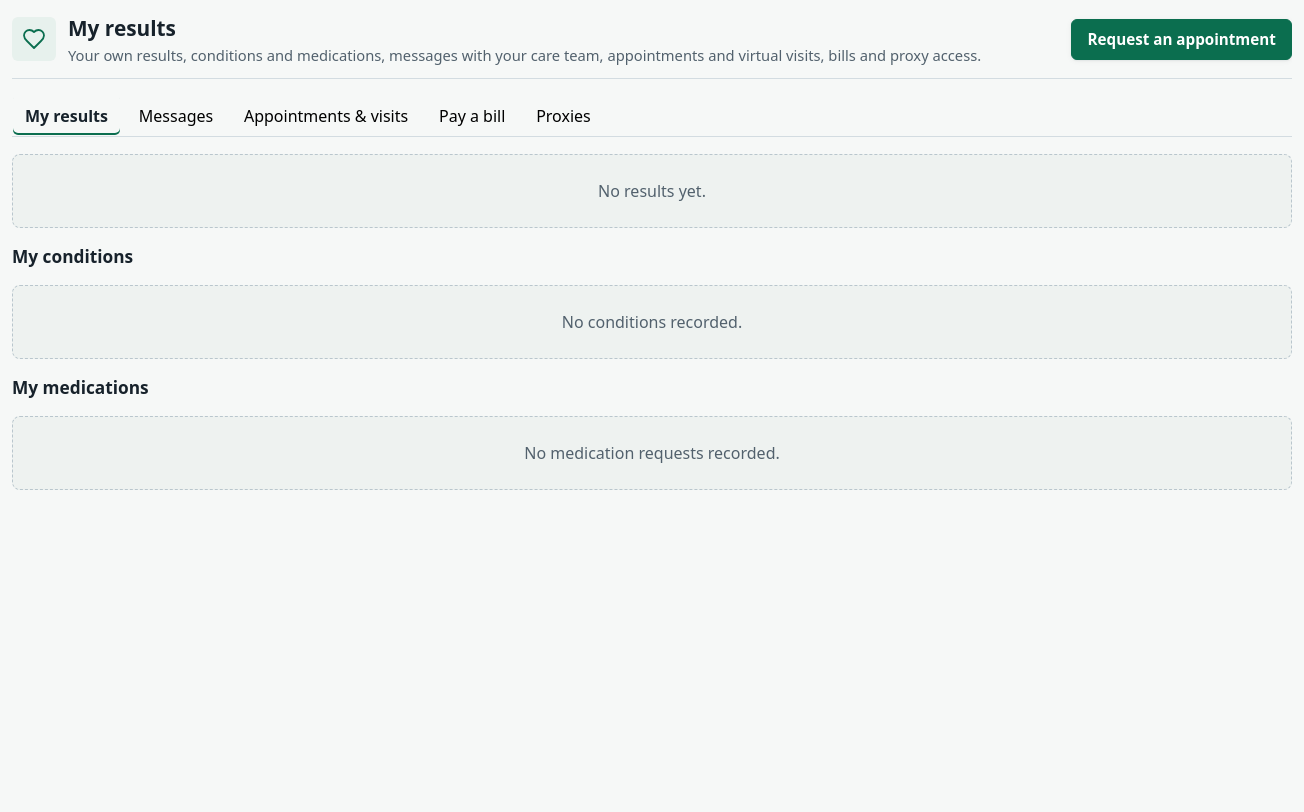
Scenario: PortalPage access services (BD-22 / BD-23) › proxy: creates a grant for a named proxy with chosen scopes
Click the tab "Proxies" at (563, 116), box x1=523 y1=95 x2=604 y2=136
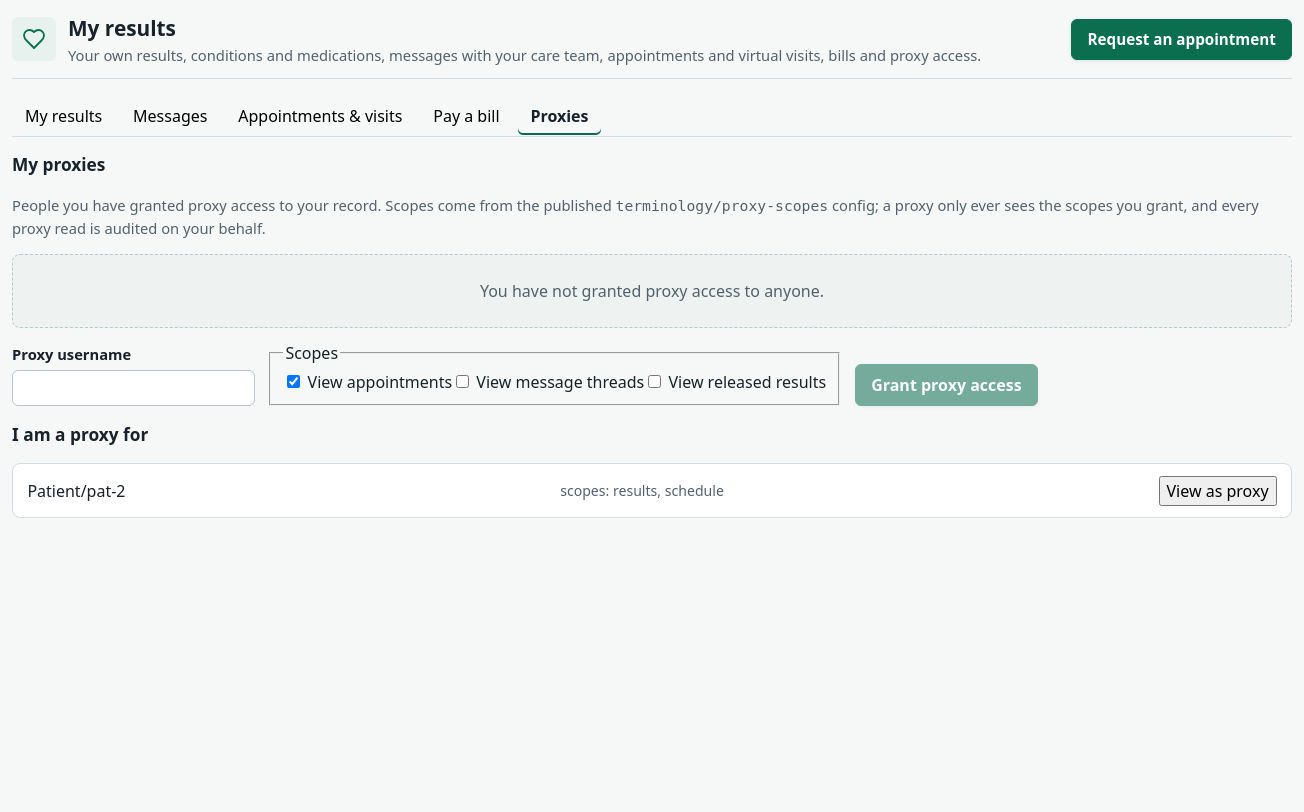
Expected: the heading "My proxies" is shown, x1=12 y1=153 x2=105 y2=176
Type "family-member" into the field labelled "Proxy username" at (133, 388), box x1=12 y1=370 x2=255 y2=406
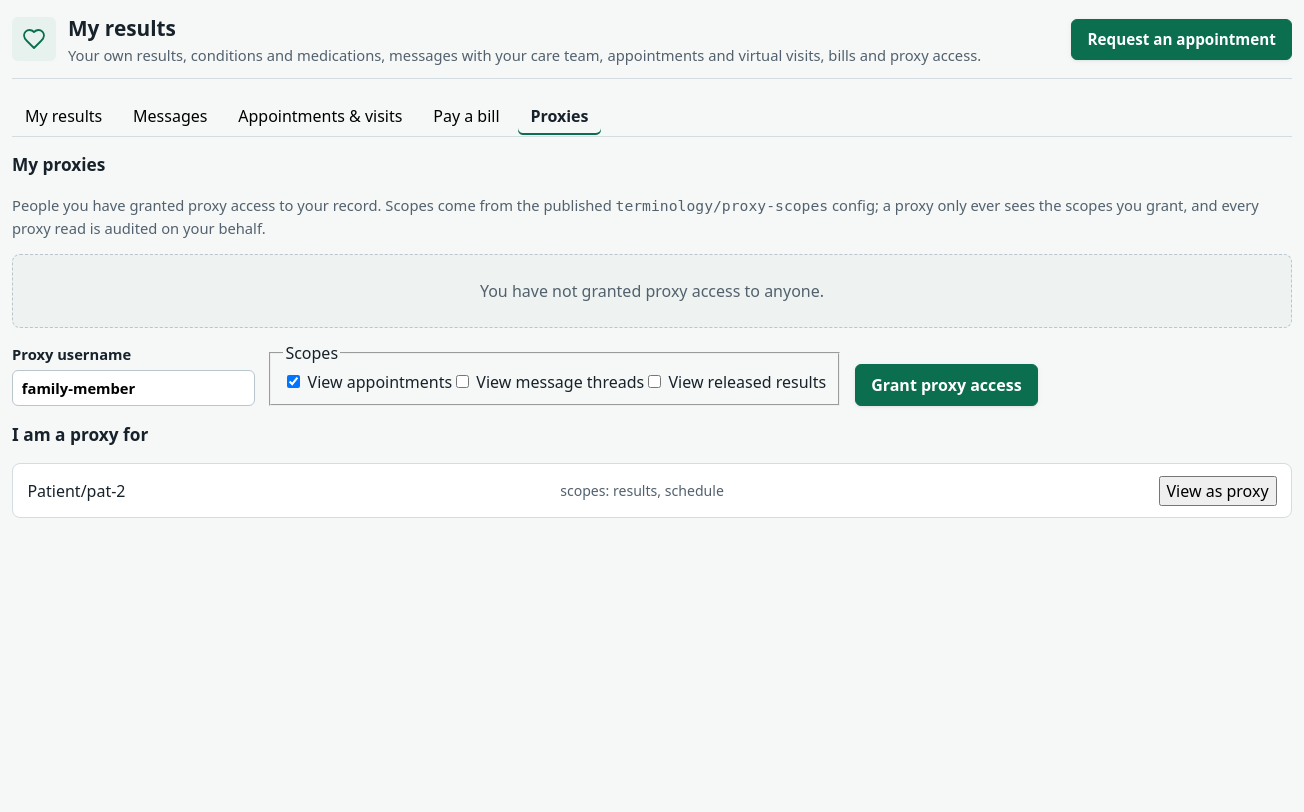
Click the checkbox named "Proxy scope results" at (655, 382), box x1=648 y1=375 x2=661 y2=388
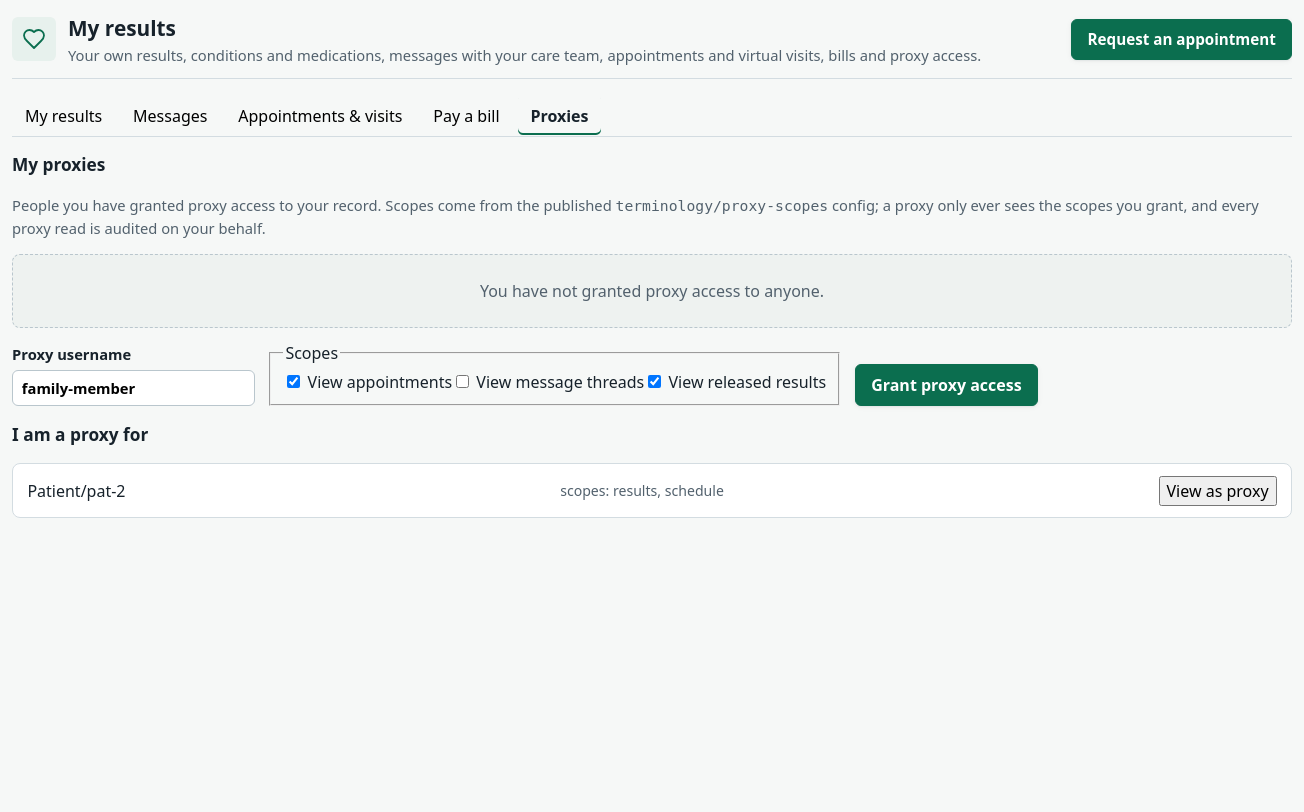
Click the button "Grant proxy access" at (946, 385), box x1=855 y1=364 x2=1038 y2=406
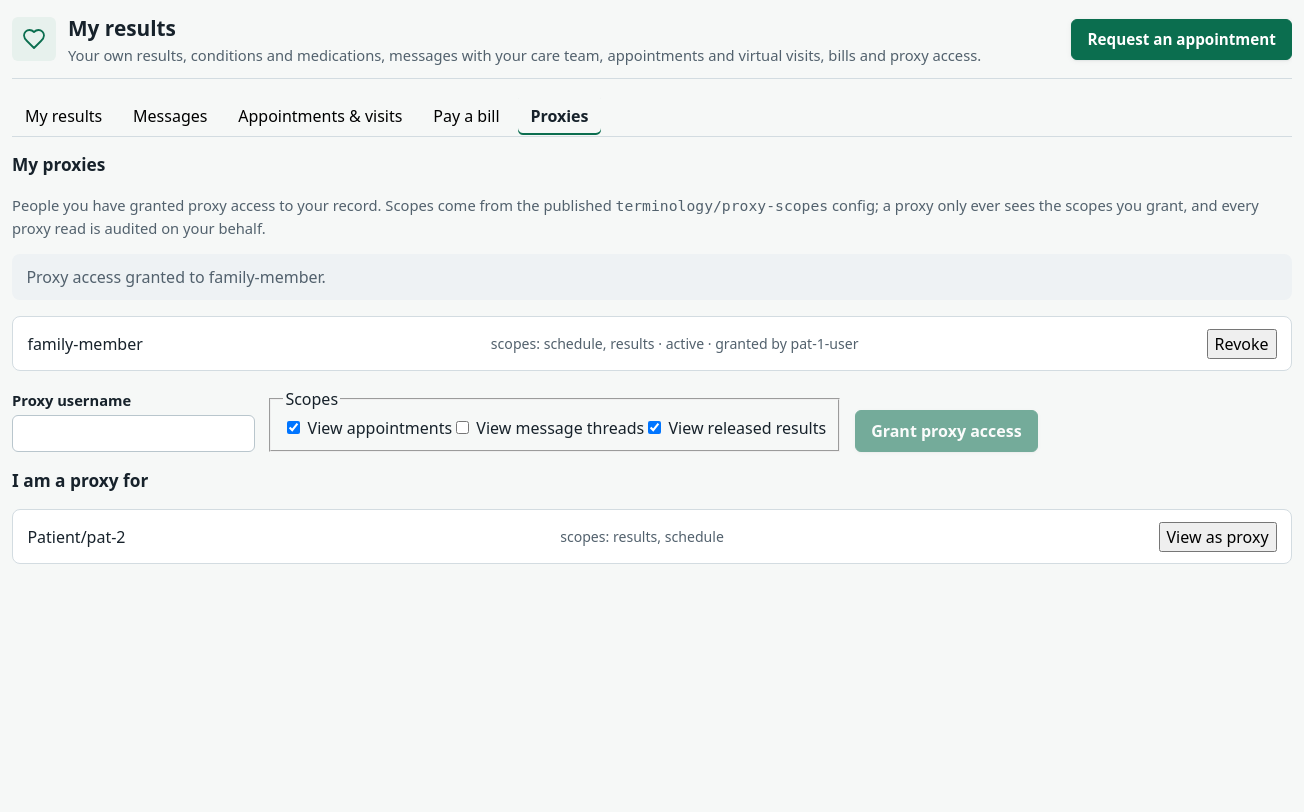
Expected: the text "Proxy access granted to family-member." is shown, x1=12 y1=254 x2=1292 y2=300
Expected: the text "family-member" is shown, x1=27 y1=332 x2=143 y2=356
